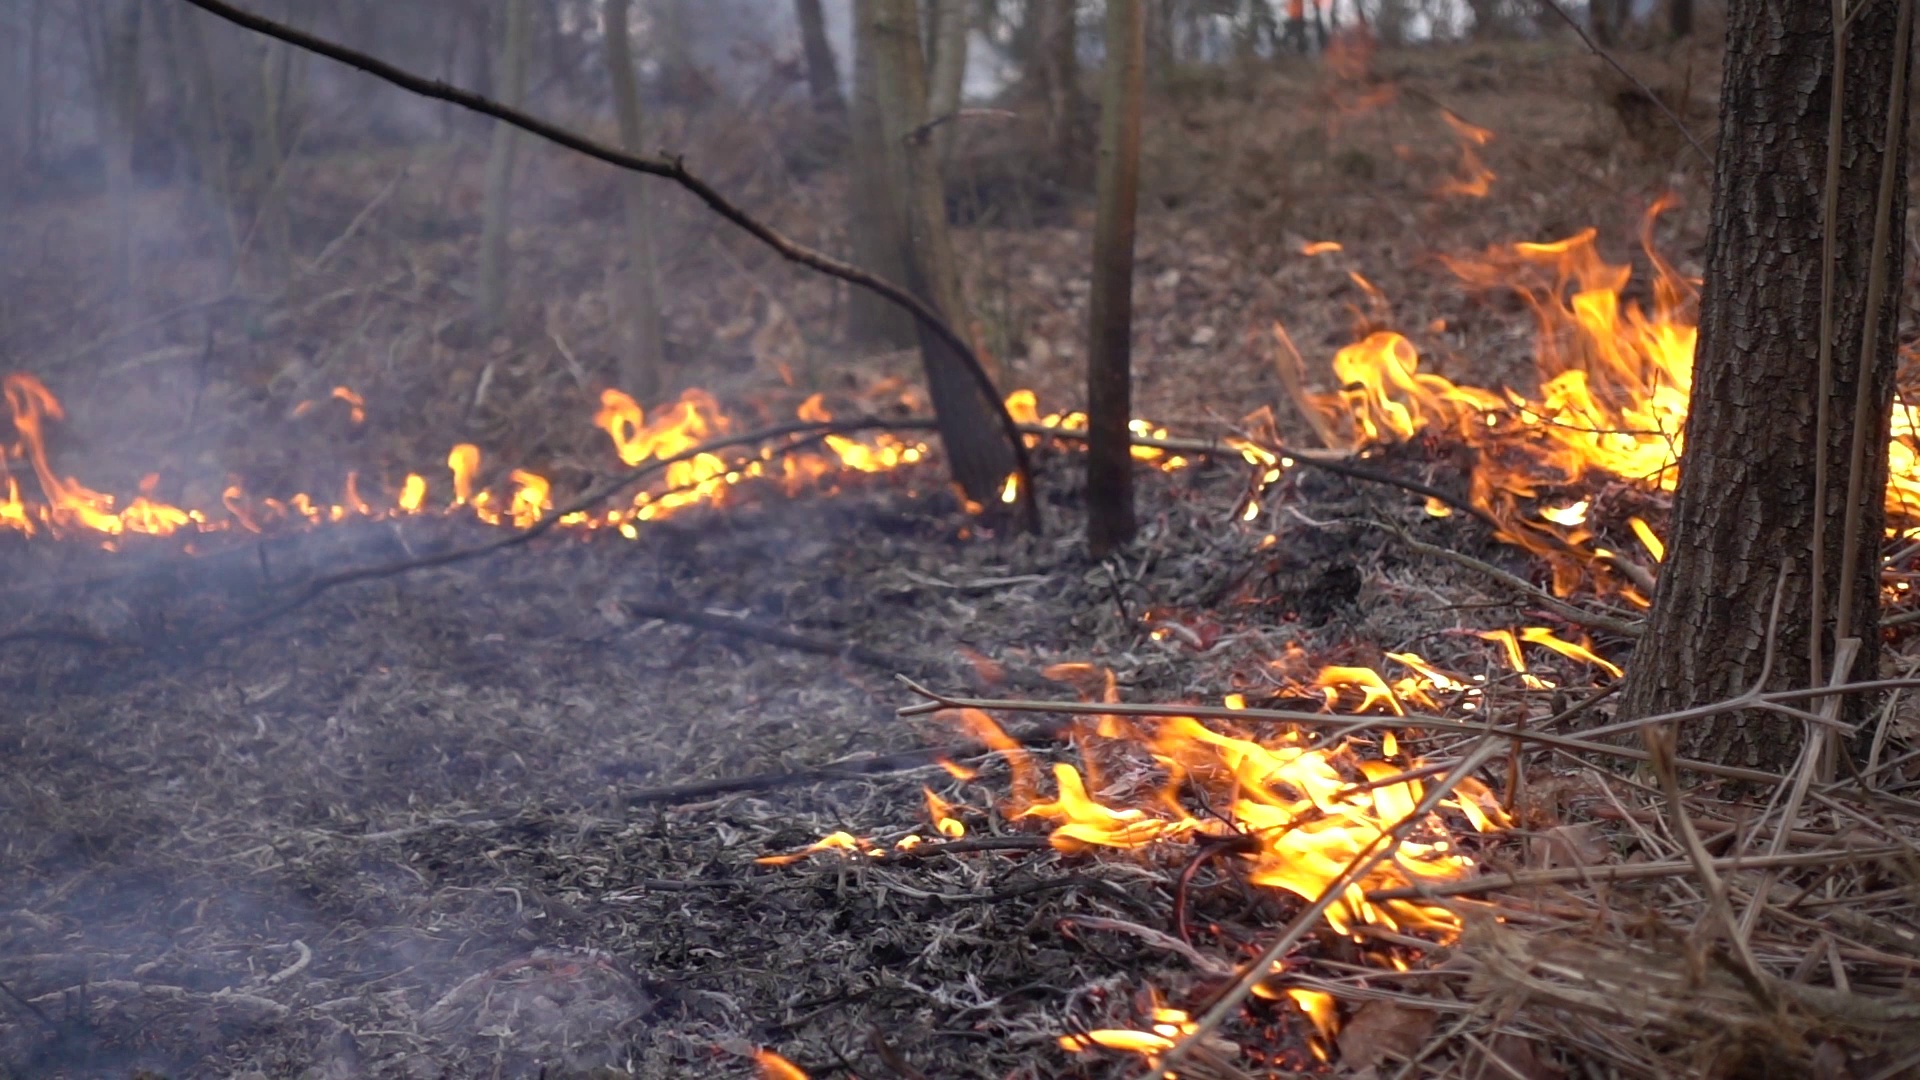fire: (918, 659, 1506, 1056), (1331, 237, 1695, 571), (1, 373, 193, 542), (582, 392, 728, 524), (446, 439, 547, 530), (829, 430, 927, 467), (1887, 396, 1916, 508), (1125, 414, 1168, 458), (1000, 389, 1038, 425)
